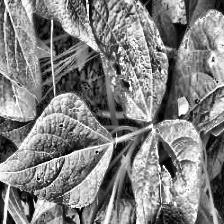ALS: (0, 94, 115, 200), (73, 0, 169, 125), (128, 118, 209, 224), (176, 8, 224, 138)
